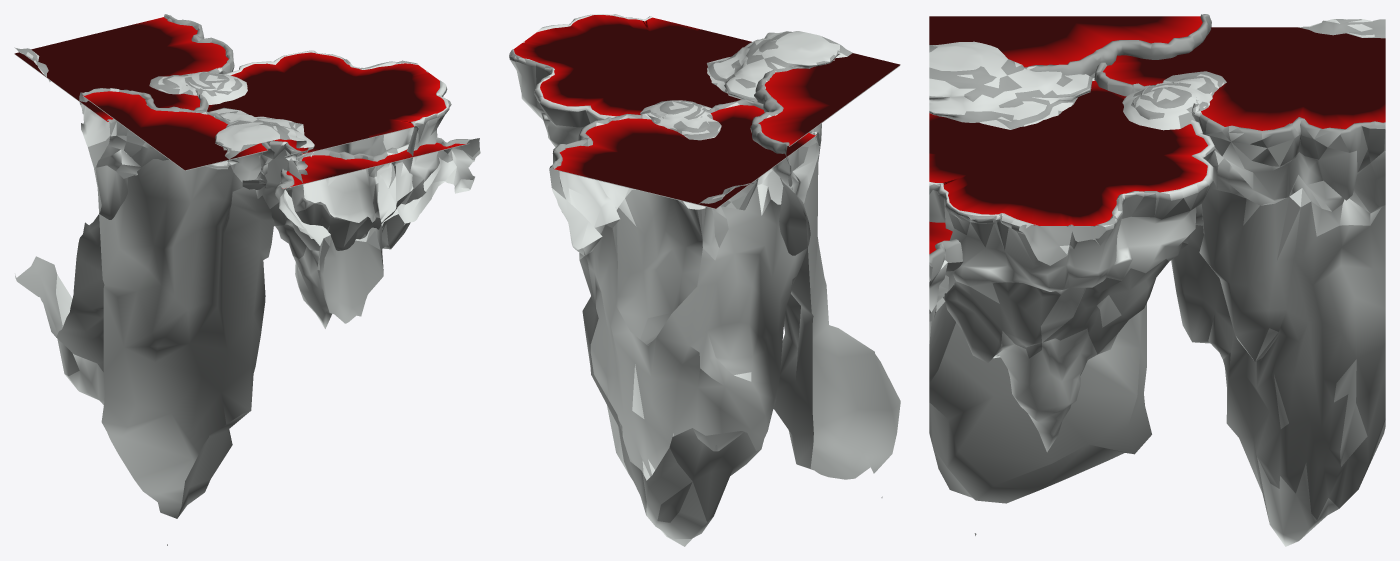
The picture shows the model from 3 angles, left to right: view 1: azimuth 30°, elevation 25°; view 2: azimuth 150°, elevation 25°; view 3: azimuth 270°, elevation 25°; orthographic projection. The views are drawn at different scales.
Parts seen in each view (by area): view 1: G:\FFXIV-MapTools\exports\a2f1\bg\ex1\03_abr_a2\fld\a2f1\bgp (×10); view 2: G:\FFXIV-MapTools\exports\a2f1\bg\ex1\03_abr_a2\fld\a2f1\bgp (×9); view 3: G:\FFXIV-MapTools\exports\a2f1\bg\ex1\03_abr_a2\fld\a2f1\bgp (×10).
Boxes of the visible parts, <box> form: G:\FFXIV-MapTools\exports\a2f1\bg\ex1\03_abr_a2\fld\a2f1\bgp (×10): <box>14,14,480,545</box>; G:\FFXIV-MapTools\exports\a2f1\bg\ex1\03_abr_a2\fld\a2f1\bgp (×9): <box>509,14,900,546</box>; G:\FFXIV-MapTools\exports\a2f1\bg\ex1\03_abr_a2\fld\a2f1\bgp (×10): <box>929,14,1385,546</box>.
Bounding box in the file's own units: 128 × 165 × 128.
